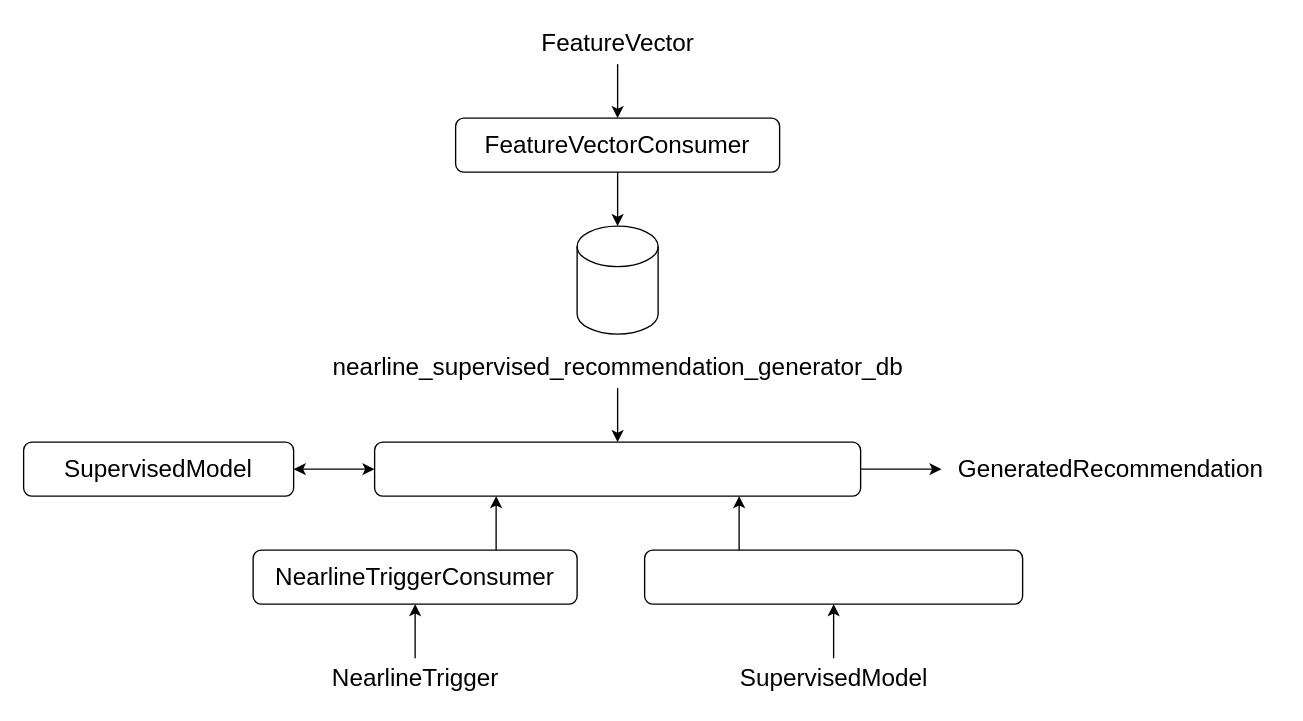
This 1303x721 diagram has some shape labels left out. Each missing label, with the centre of its shape:
GeneratedRecommendationProducer: the point at 617,468
SupervisedModelConsumer: the point at 833,576
